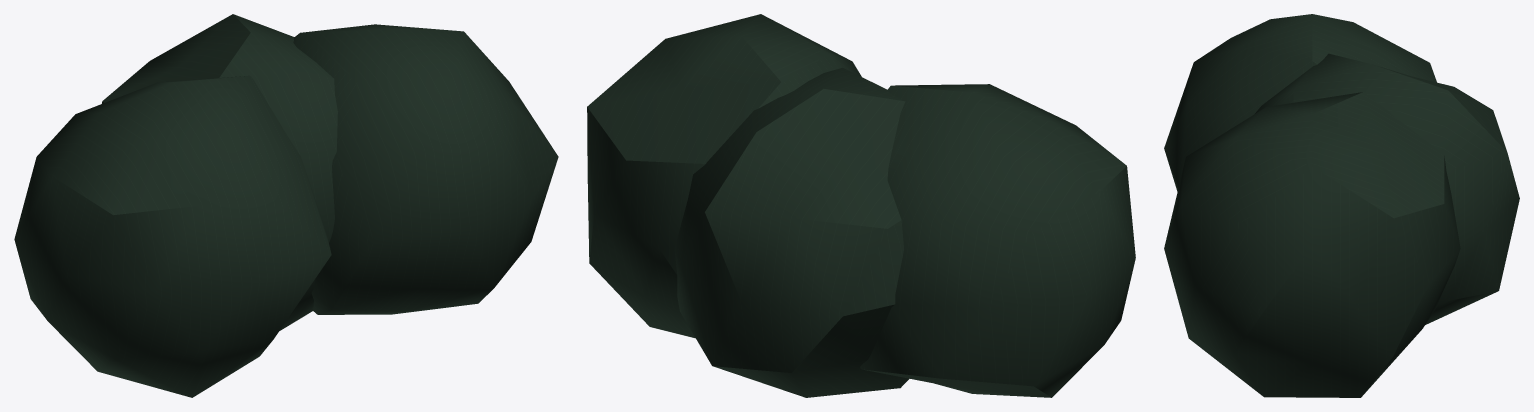
File: kit_bush.glb
The picture shows the model from 3 angles, left to right: view 1: azimuth 30°, elevation 25°; view 2: azimuth 150°, elevation 25°; view 3: azimuth 270°, elevation 25°; orthographic projection. The views are drawn at different scales.
Visible parts, largest first — view 1: bu_0, bu_2, bu_1; view 2: bu_0, bu_1, bu_2; view 3: bu_2, bu_1, bu_0.
Part boxes in pixels (<box>): bu_0: <box>14,75,331,397</box>; bu_2: <box>293,24,558,314</box>; bu_1: <box>102,14,337,330</box>; bu_0: <box>860,84,1135,397</box>; bu_1: <box>674,67,909,397</box>; bu_2: <box>587,14,861,338</box>; bu_2: <box>1164,92,1460,397</box>; bu_1: <box>1255,53,1519,324</box>; bu_0: <box>1164,14,1436,191</box>.
Size of the model in its own units: 1.81 by 1 by 1.2.
Materials: 1 (1 with a texture image).
